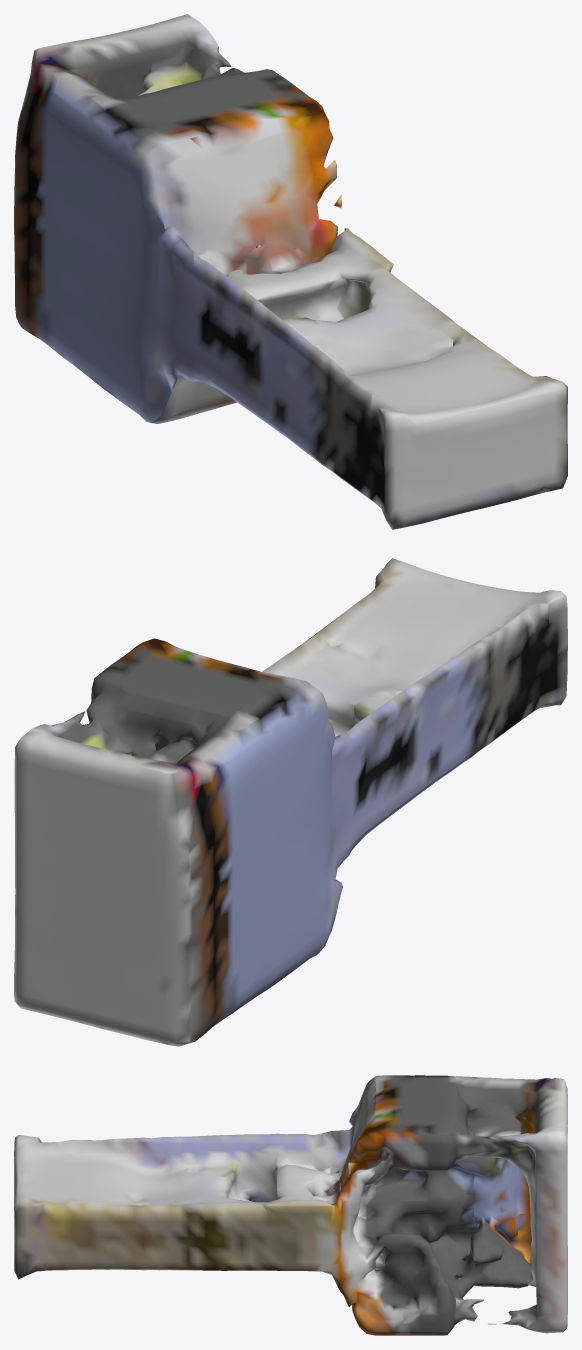
The model's file is a display with display affordance.obj.
The picture shows the model from 3 angles, top to bottom: view 1: azimuth 30°, elevation 25°; view 2: azimuth 150°, elevation 25°; view 3: azimuth 270°, elevation 25°; orthographic projection. The views are drawn at different scales.
Bounding box in the file's own units: 0.2902 × 0.411 × 1.
